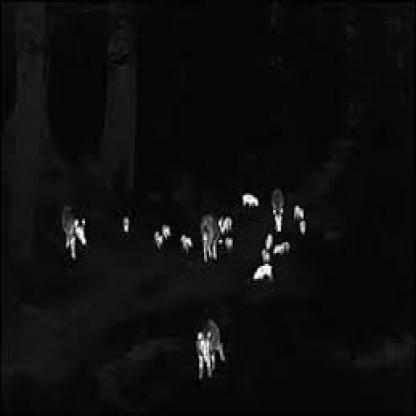rehkitze: (191, 319, 227, 378), (61, 205, 87, 262), (198, 213, 217, 261), (268, 187, 285, 233), (250, 264, 275, 289), (218, 210, 237, 235), (238, 191, 263, 207), (290, 201, 308, 221), (180, 232, 192, 255), (275, 243, 291, 260), (218, 237, 235, 253), (152, 232, 163, 251), (297, 222, 307, 240), (120, 214, 129, 233), (262, 235, 273, 250), (160, 223, 171, 237), (260, 252, 271, 263)
